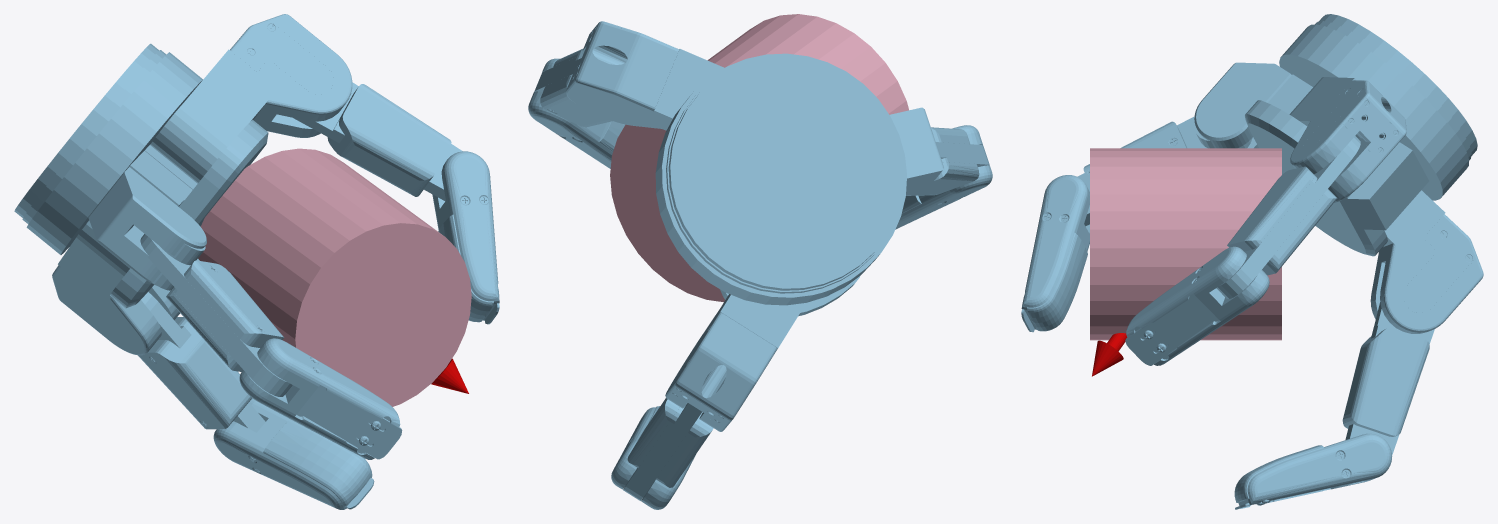
3 views of the same model, side by side, from view 1: azimuth 30°, elevation 25°; view 2: azimuth 150°, elevation 25°; view 3: azimuth 270°, elevation 25° (orthographic). The views are drawn at different scales.
Visible parts, largest first — view 1: world, cylinder_medium.stl; view 2: world, cylinder_medium.stl; view 3: world, cylinder_medium.stl.
Part boxes in pixels (left/top/right/bottom): world: left=14, top=14, right=499, bottom=509; cylinder_medium.stl: left=198, top=148, right=471, bottom=406; world: left=528, top=21, right=992, bottom=509; cylinder_medium.stl: left=610, top=14, right=908, bottom=302; world: left=1021, top=14, right=1483, bottom=509; cylinder_medium.stl: left=1090, top=148, right=1281, bottom=340.
Bounding box in the file's own units: 0.1786 × 0.1928 × 0.1926.
